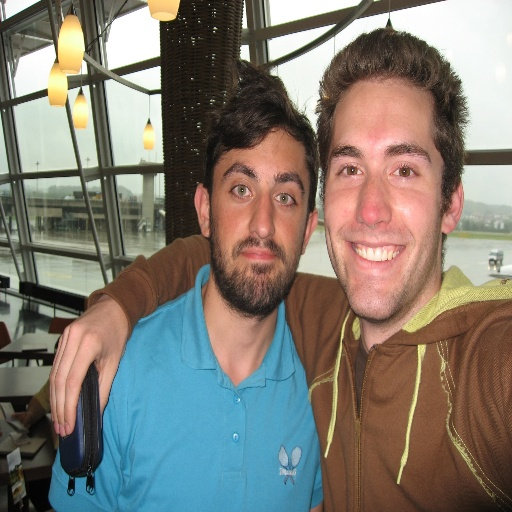hand: (37, 258, 146, 475)
